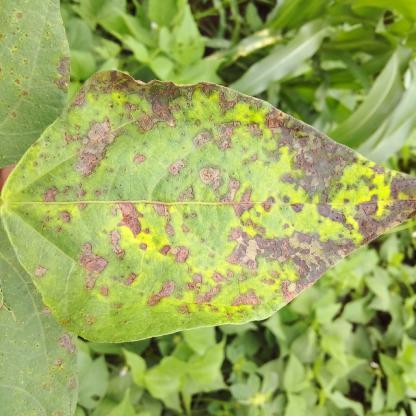Beans_Angular_LeafSpot: (17, 70, 413, 344), (0, 0, 67, 161), (0, 295, 80, 415)
